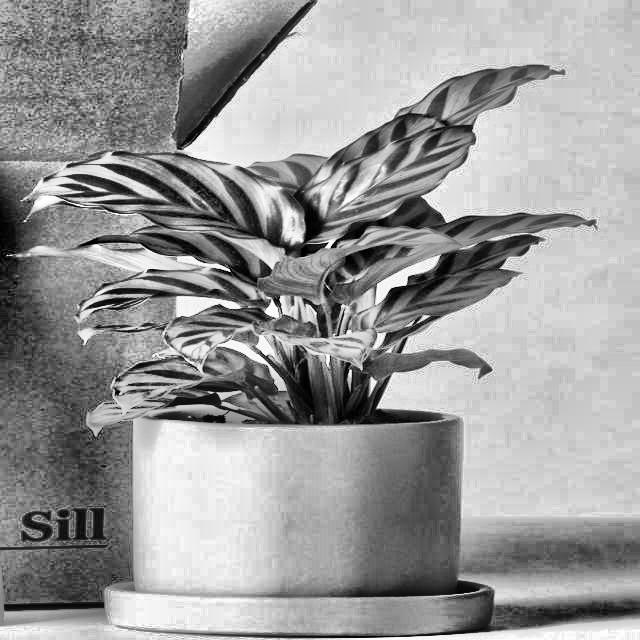plants: (46, 58, 558, 628)
